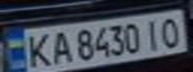0: (121, 20, 145, 54)
3: (109, 21, 127, 57)
4: (90, 25, 112, 58)
8: (72, 26, 96, 62)
A: (48, 28, 72, 65)
I: (139, 16, 166, 51)
K: (21, 30, 54, 70)
O: (157, 14, 187, 48)
